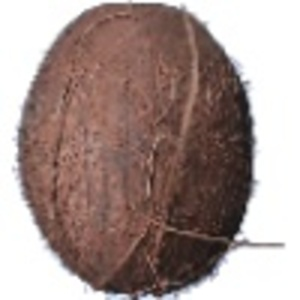coco: (15, 2, 273, 300)
